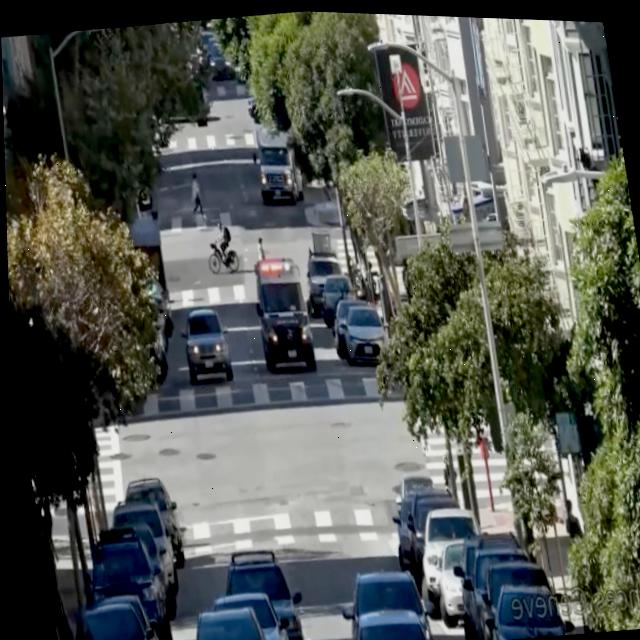emergency: (247, 250, 316, 373)
